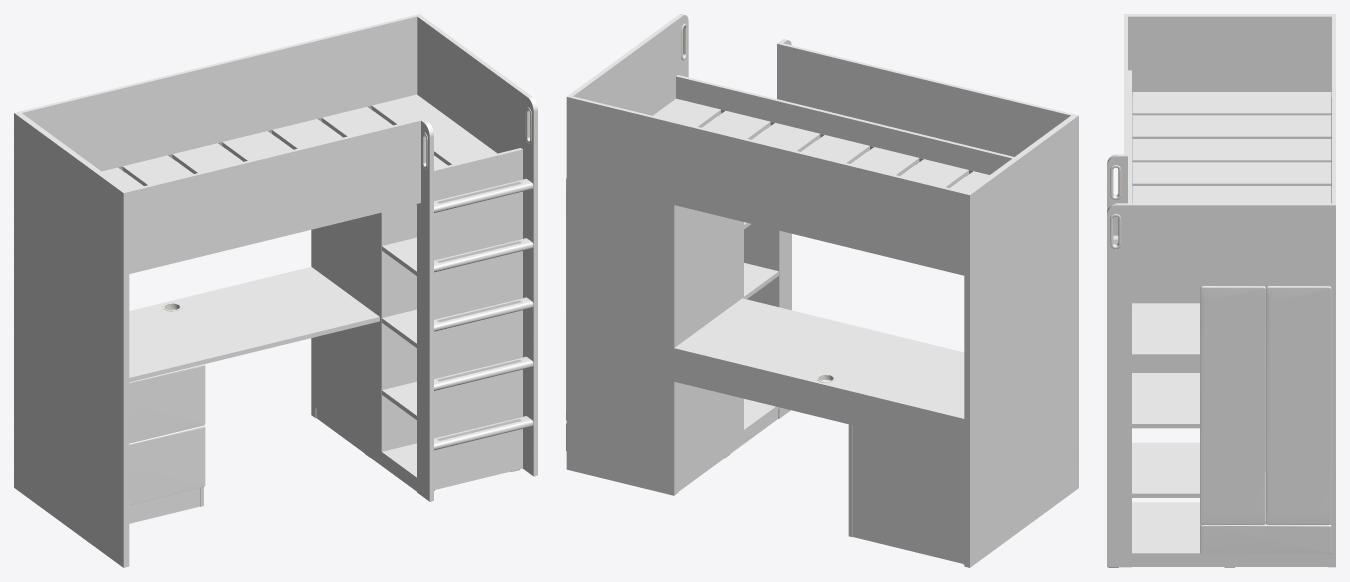
3 views of the same model, side by side, from view 1: azimuth 30°, elevation 25°; view 2: azimuth 150°, elevation 25°; view 3: azimuth 270°, elevation 25° (orthographic). The views are drawn at different scales.
Parts seen in each view (by area): view 1: Mesh_0; view 2: Mesh_0; view 3: Mesh_0.
Part boxes in pixels (box(x1,y1,x2,y2)): Mesh_0: box(14, 14, 537, 567); Mesh_0: box(566, 14, 1078, 567); Mesh_0: box(1107, 14, 1335, 567).
Bounding box in the file's own units: 2.08 × 1.83 × 1.04.
1 material, 1 textured.
